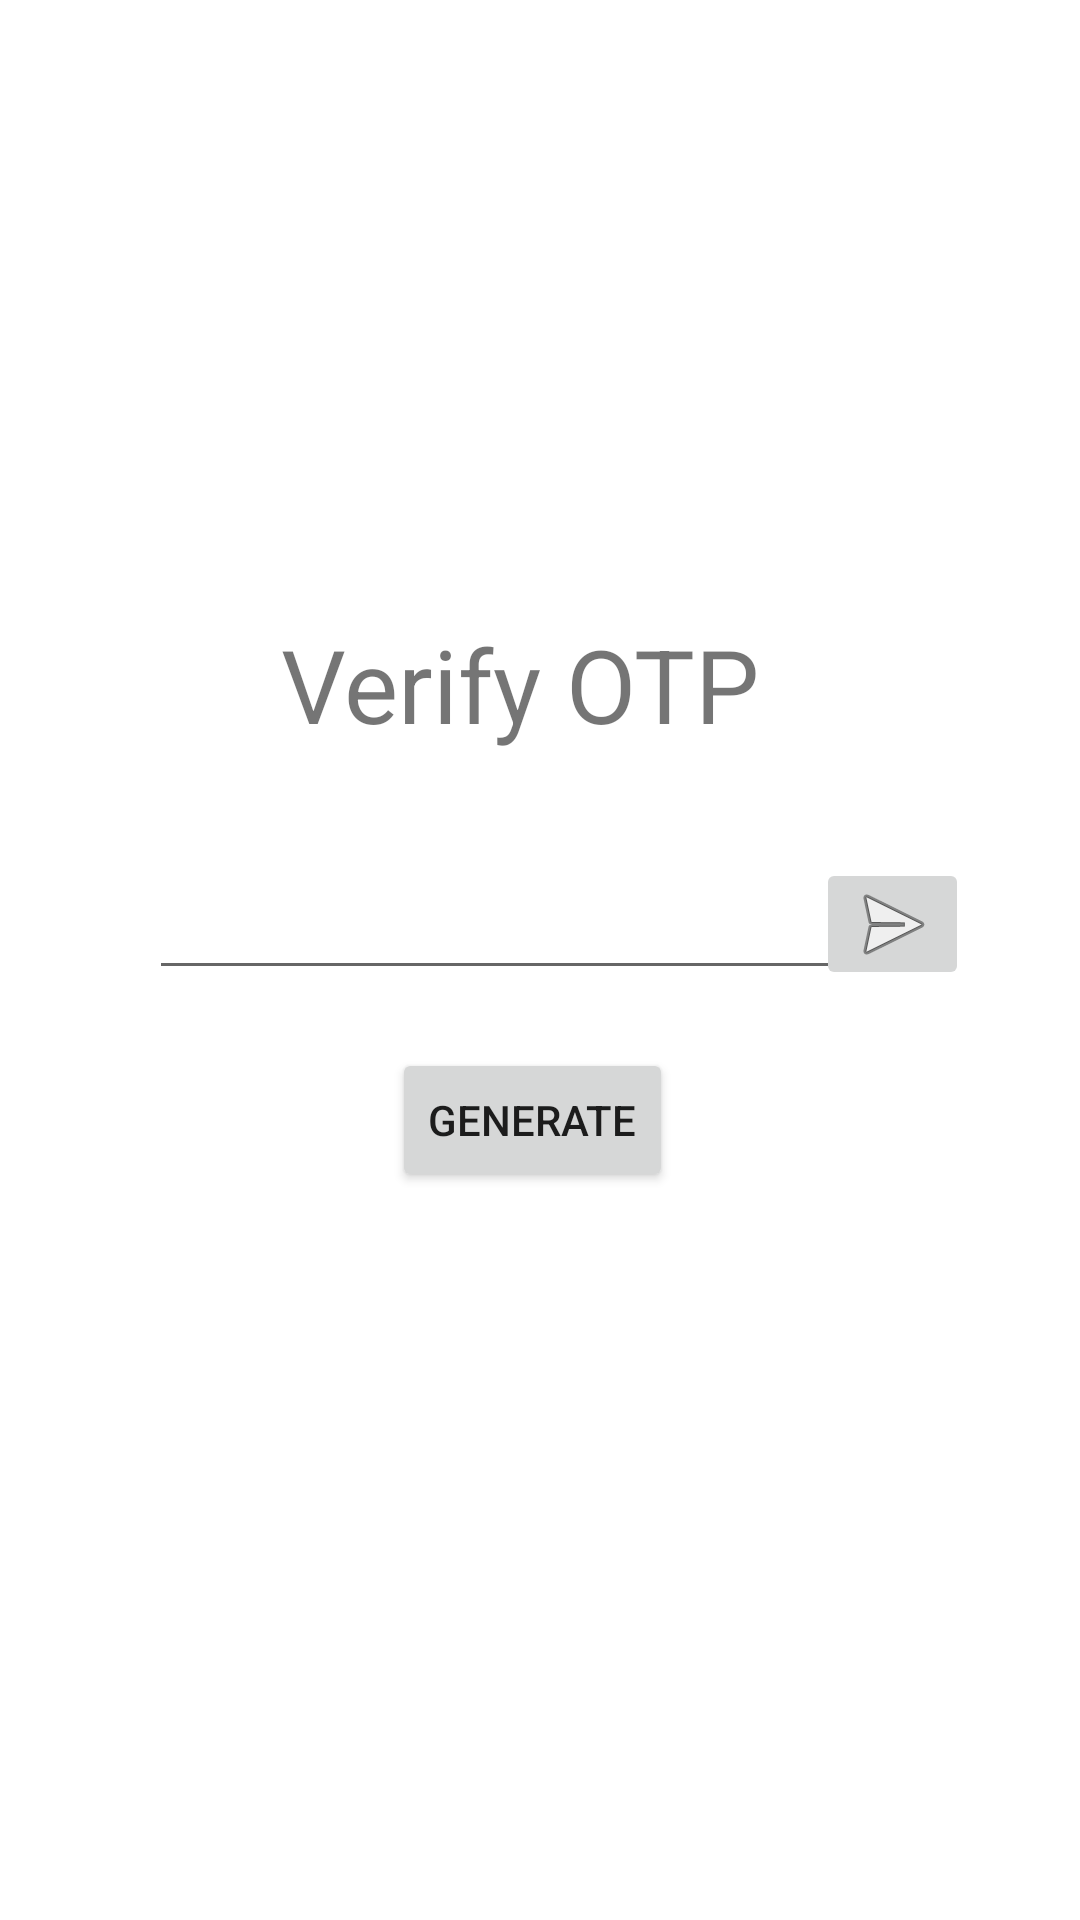

Icons on this 1080px×1920px Android screen, each with its box as (x1, y1, x2, y2):
send: (816, 876, 957, 972)
